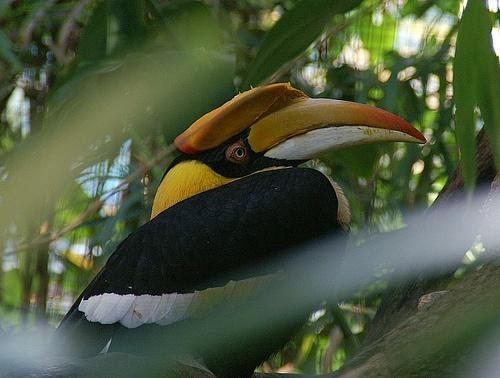bird: (51, 83, 428, 358)
